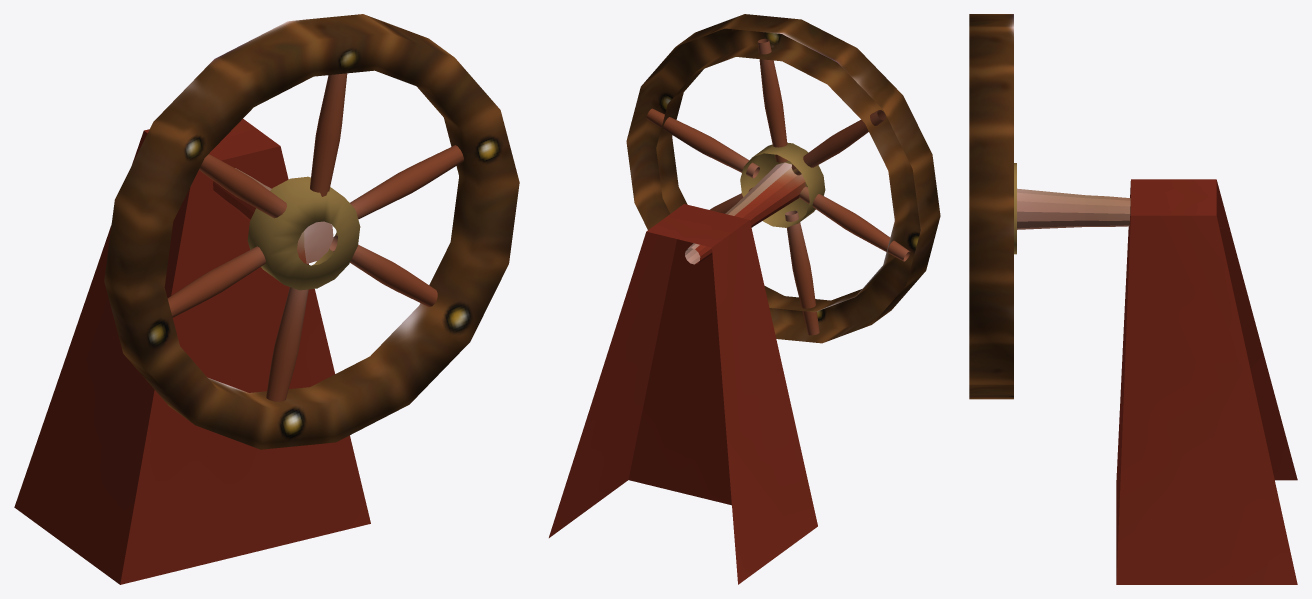
File: rudder.fbx
The picture shows the model from 3 angles, left to right: view 1: azimuth 30°, elevation 25°; view 2: azimuth 150°, elevation 25°; view 3: azimuth 270°, elevation 25°; orthographic projection. The views are drawn at different scales.
Parts seen in each view (by area): view 1: rudder; view 2: rudder; view 3: rudder.
Boxes of the visible parts, x1,y1,x2,y2 form: rudder: (14, 14, 519, 584); rudder: (549, 14, 940, 584); rudder: (969, 14, 1297, 584).
Bounding box in the file's own units: 78.56 × 112 × 67.08.
